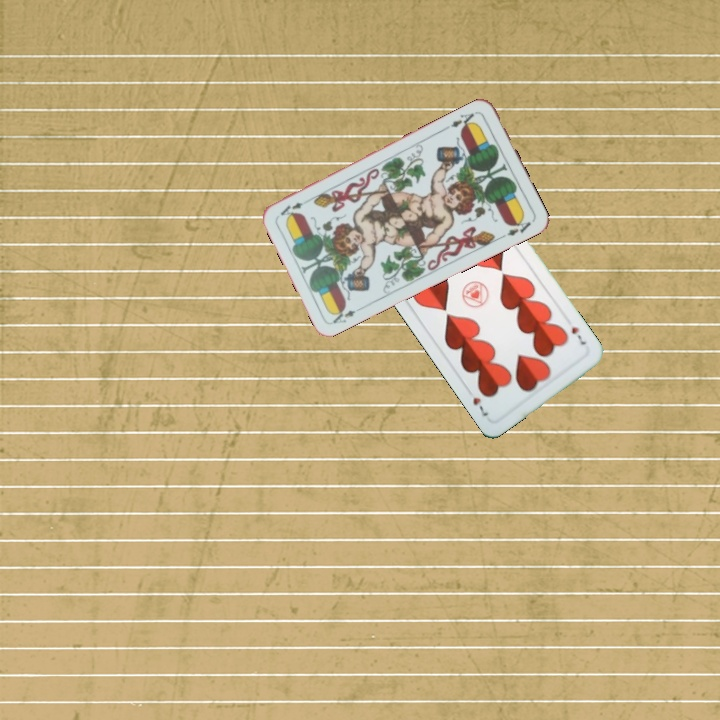EA: (442, 108, 480, 132), (328, 302, 365, 326)
H7: (567, 323, 588, 348)
